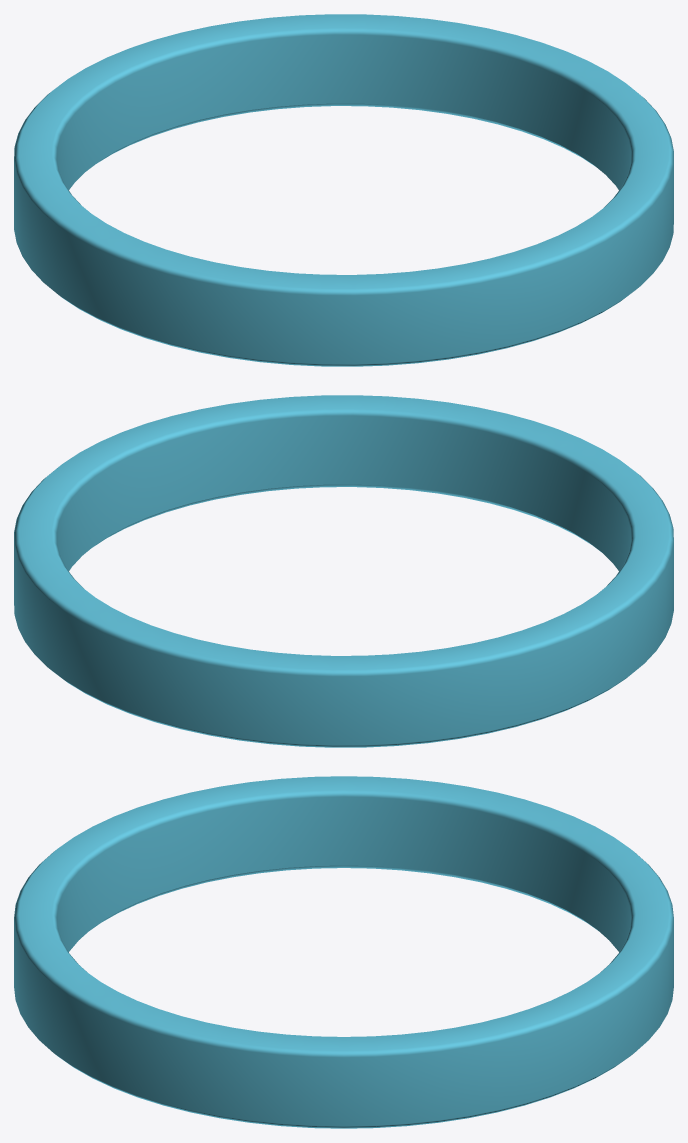
3 views of the same model, one above another, from view 1: azimuth 30°, elevation 25°; view 2: azimuth 150°, elevation 25°; view 3: azimuth 270°, elevation 25° (orthographic).
Parts seen in each view (by area): view 1: seal_body; view 2: seal_body; view 3: seal_body.
Boxes of the visible parts, box(x1,y1,x2,y2) form: seal_body: box(14, 14, 673, 366); seal_body: box(14, 395, 673, 747); seal_body: box(14, 776, 673, 1128).
Bounding box in the file's own units: 0.073 × 0.00952 × 0.073.
